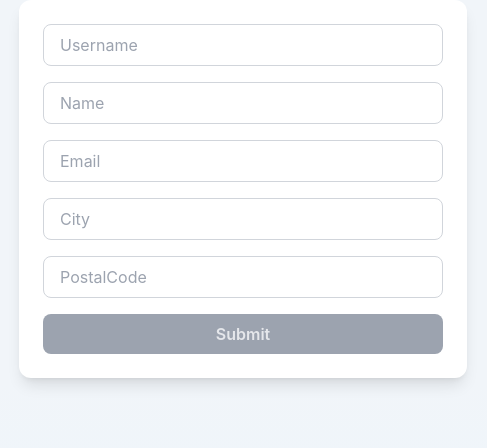
Scenario: RegistrationForm - Tests Complets › API Integration (200/400/500) › POST 400 - Email déjà utilisé
Type "Jean" into the field with placeholder "Name" at (243, 103), box [43,82,443,124]
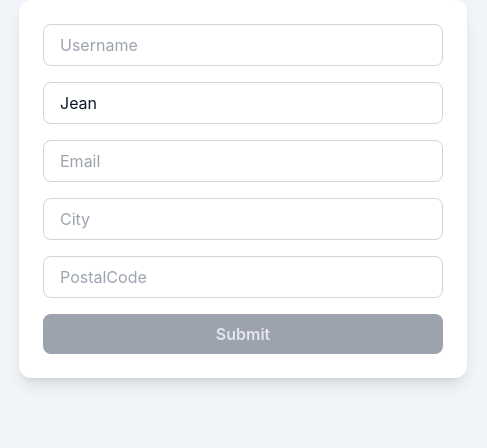
Type "jdupont" into the field with placeholder "Username" at (243, 45), box [43,24,443,66]
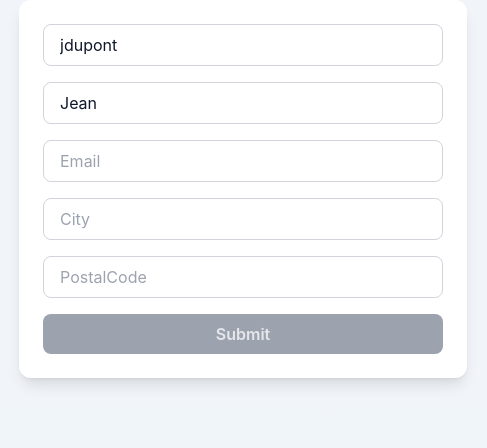
Type "dupont@test.com" into the field with placeholder "Email" at (243, 161), box [43,140,443,182]
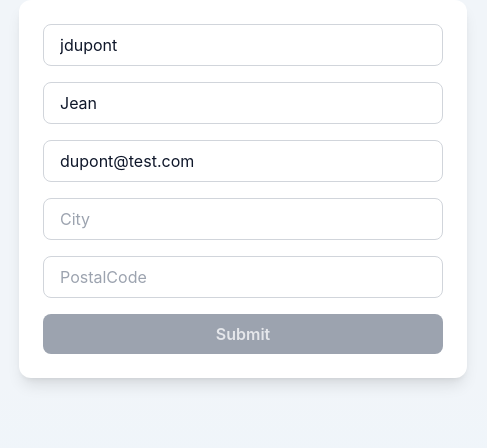
Type "Paris" into the field with placeholder "City" at (243, 219), box [43,198,443,240]
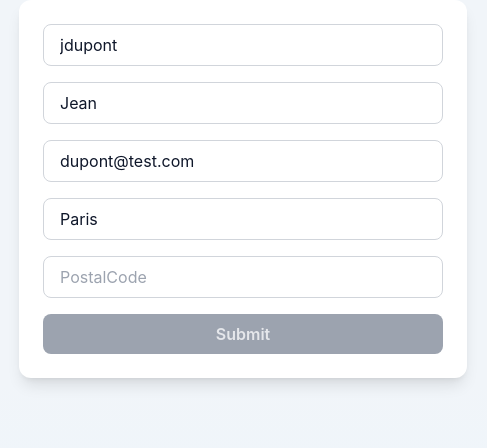
Type "75001" into the field with placeholder "PostalCode" at (243, 277), box [43,256,443,298]
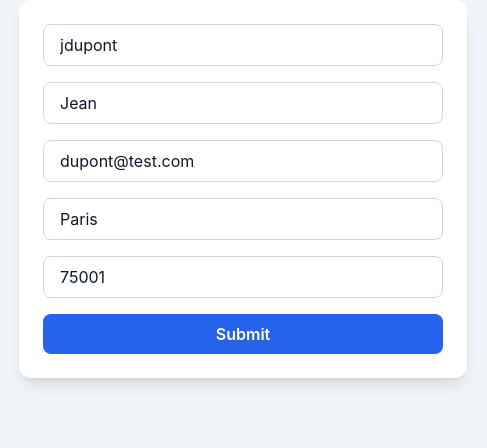
Expected: the button "Submit" is enabled
Click the button "Submit" at (243, 334), box [43,314,443,354]
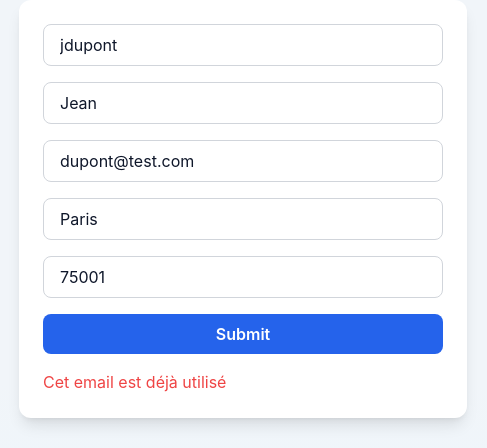
Expected: the message reads "Cet email est déjà utilisé", [43,372,226,392]
